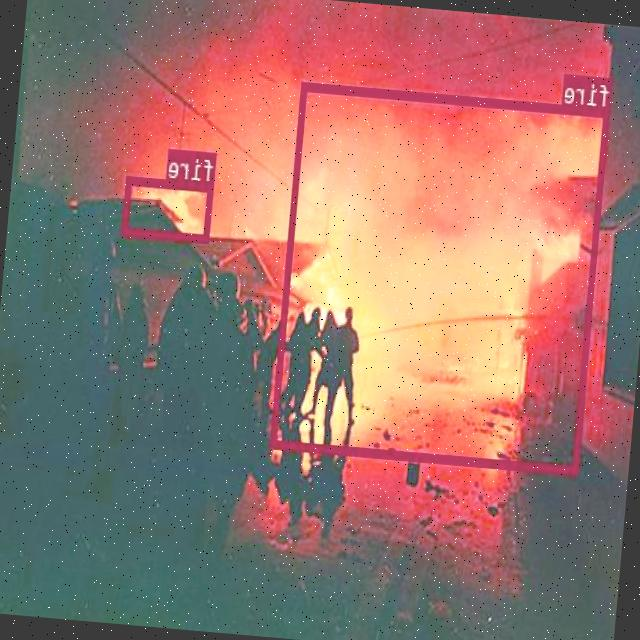fire: (270, 81, 610, 474), (122, 175, 215, 242)
